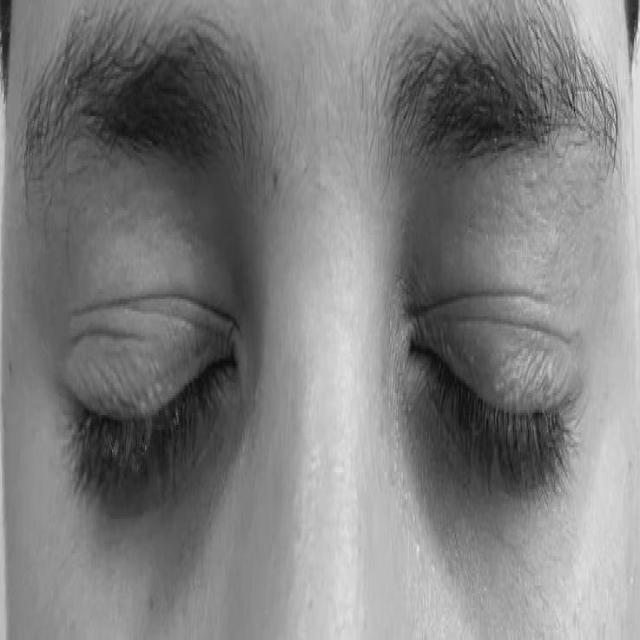real: (36, 131, 612, 583)
